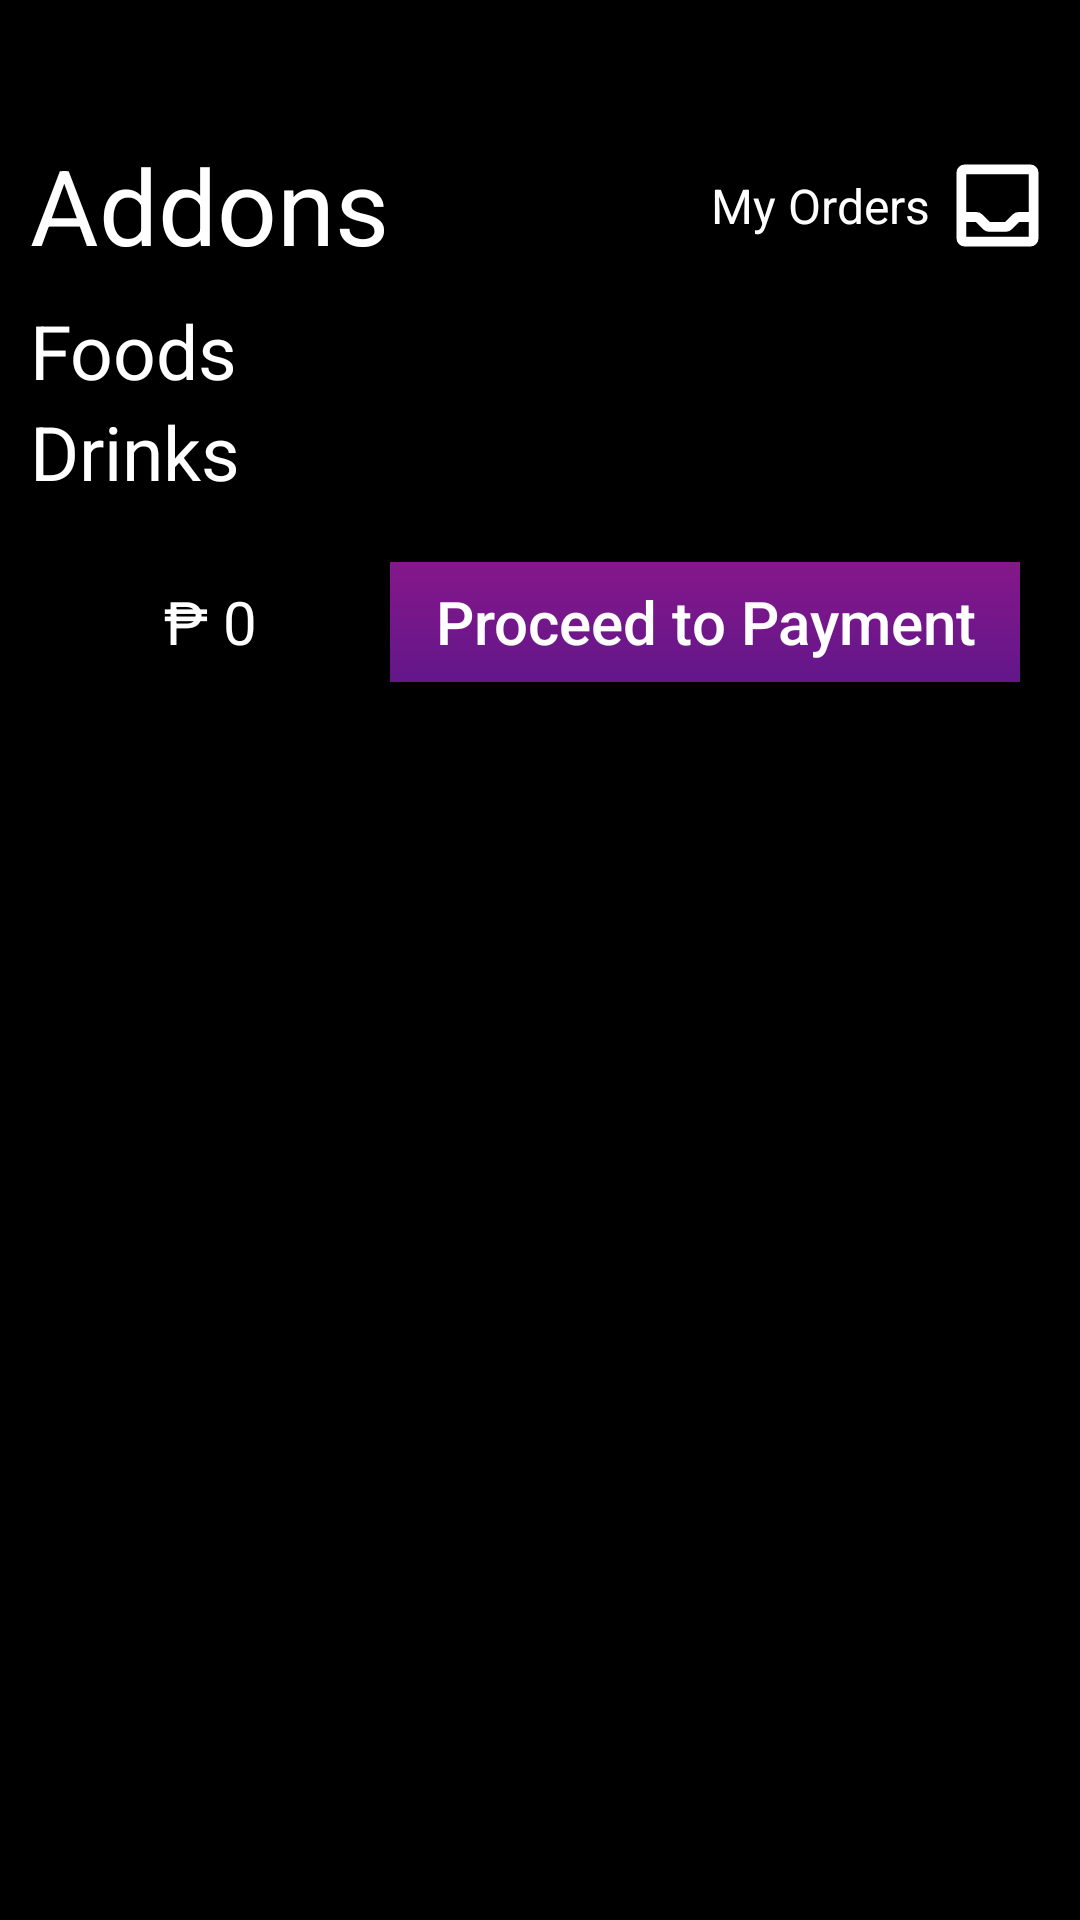

Icon bounding boxes for this 1080px x 1920px phone screenshot, format (left=x1, top=y1, right=x2, bottom=y2):
tray: (left=956, top=164, right=1039, bottom=247)
